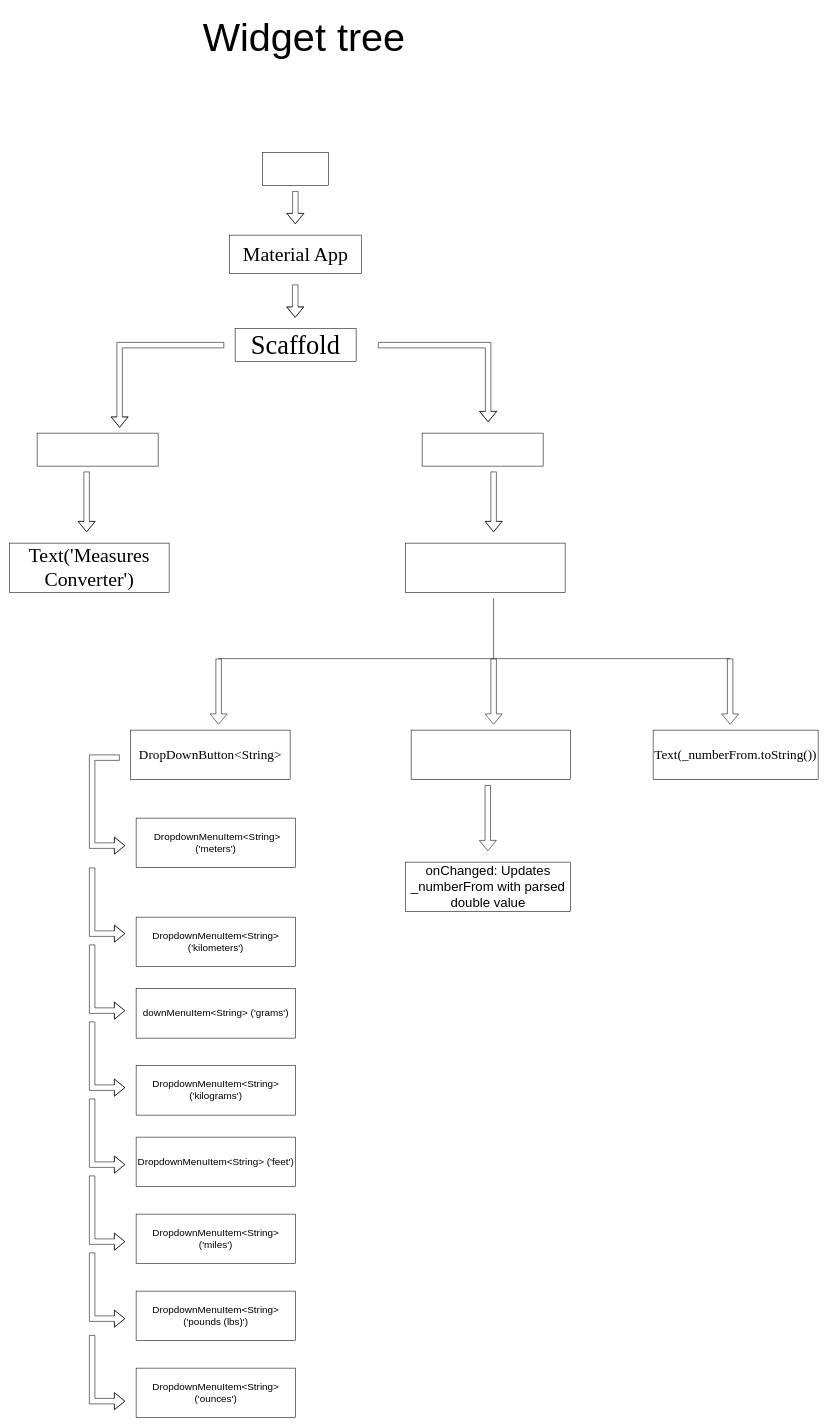
Some shapes in this 828 by 1427 pixel diagram are drawn without their labels. The centre of each missing label's shape, as x and y in pixels:
AppBar: point 97,449
Center: point 482,449
Column: point 485,568
MyApp: point 295,169
TextField: point 491,755
